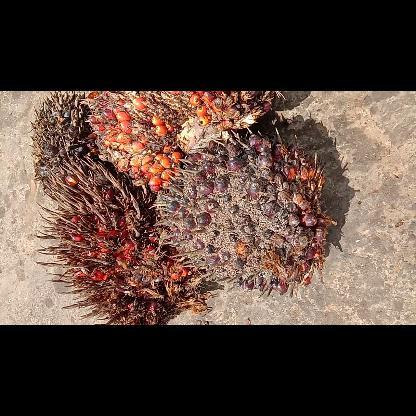Kurang masak: (154, 127, 338, 295)
TBS abnormal: (33, 91, 128, 209)
TBS masak: (84, 90, 280, 192)
Terlalu masak: (34, 156, 208, 324)
